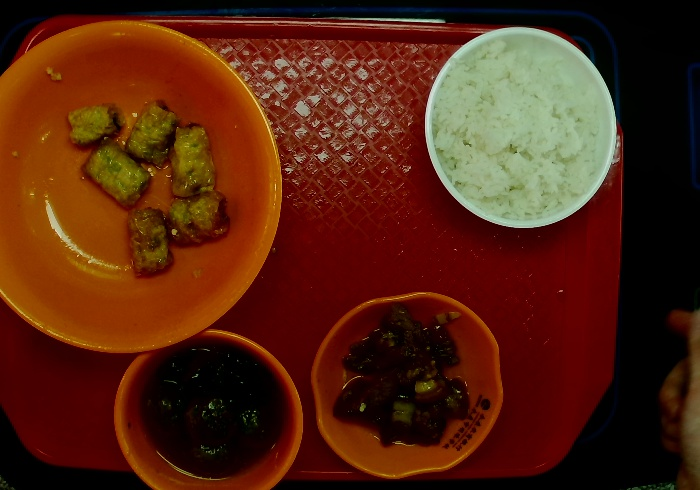YKMZ-Fan_Wan: (423, 24, 620, 233)
YKMZ-Ju_Se_Ao_Bian_Wan: (310, 290, 503, 479)
YKMZ-Ju_Se_Tang_Wan: (1, 19, 284, 357)
YKMZ-Ju_Se_Yuan_Wan: (113, 325, 304, 490)
